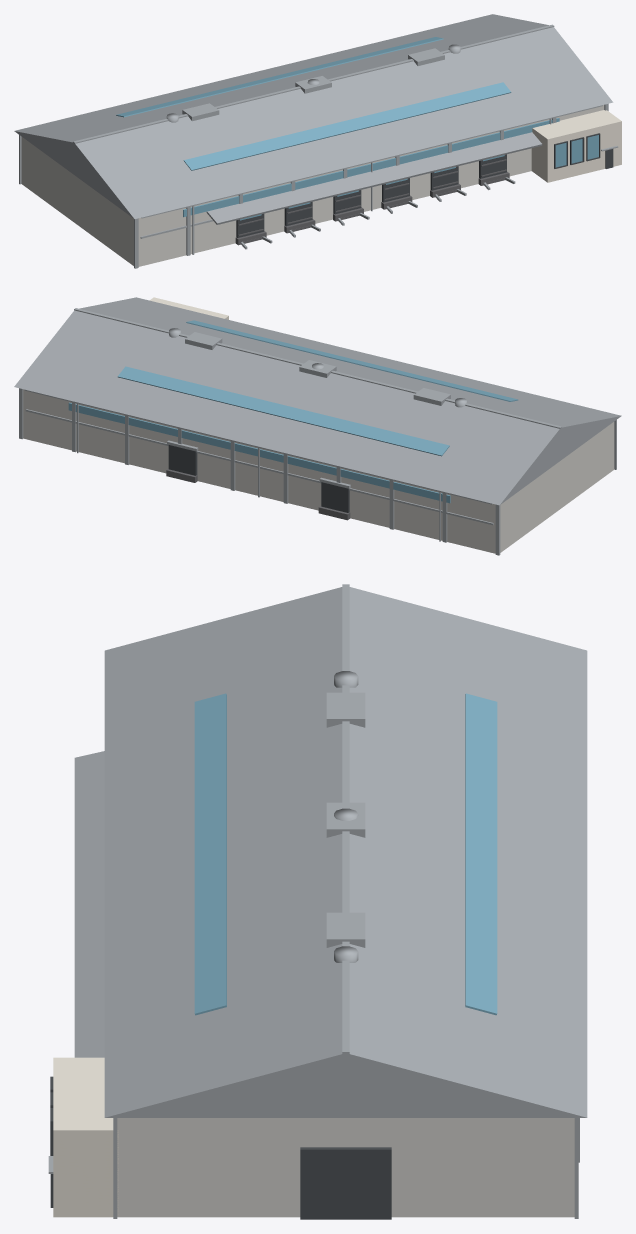
Rendered from warehouse_large.glb.
3 renders of one model, top to bottom at view 1: azimuth 30°, elevation 25°; view 2: azimuth 150°, elevation 25°; view 3: azimuth 270°, elevation 25°, orthographic. The views are drawn at different scales.
Parts seen in each view (by area): view 1: Merged_PropsMetal, wh_walls, Merged_FacadeGlass, wh_office, Merged_WindowFrame, Merged_RoofDark; view 2: Merged_PropsMetal, wh_walls, Merged_FacadeGlass, Merged_WindowFrame, Merged_RoofDark, wh_office; view 3: Merged_PropsMetal, wh_walls, Merged_FacadeGlass, wh_office, Merged_WindowFrame.
Part boxes in pixels (x1=…): Merged_PropsMetal: x1=14, y1=14, x2=618, y2=268; wh_walls: x1=21, y1=105, x2=604, y2=266; Merged_FacadeGlass: x1=116, y1=37, x2=598, y2=220; wh_office: x1=531, y1=110, x2=621, y2=182; Merged_WindowFrame: x1=236, y1=133, x2=613, y2=237; Merged_RoofDark: x1=235, y1=159, x2=509, y2=245; Merged_PropsMetal: x1=14, y1=297, x2=621, y2=555; wh_walls: x1=23, y1=389, x2=614, y2=553; Merged_FacadeGlass: x1=68, y1=320, x2=518, y2=503; Merged_WindowFrame: x1=168, y1=445, x2=349, y2=512; Merged_RoofDark: x1=166, y1=469, x2=350, y2=520; wh_office: x1=149, y1=297, x2=228, y2=319; Merged_PropsMetal: x1=48, y1=584, x2=587, y2=1218; wh_walls: x1=117, y1=1118, x2=574, y2=1217; Merged_FacadeGlass: x1=194, y1=693, x2=497, y2=1015; wh_office: x1=53, y1=1057, x2=118, y2=1217; Merged_WindowFrame: x1=50, y1=1076, x2=391, y2=1219.
Size of the model in its own units: 77.5 by 13.45 by 37.73.
